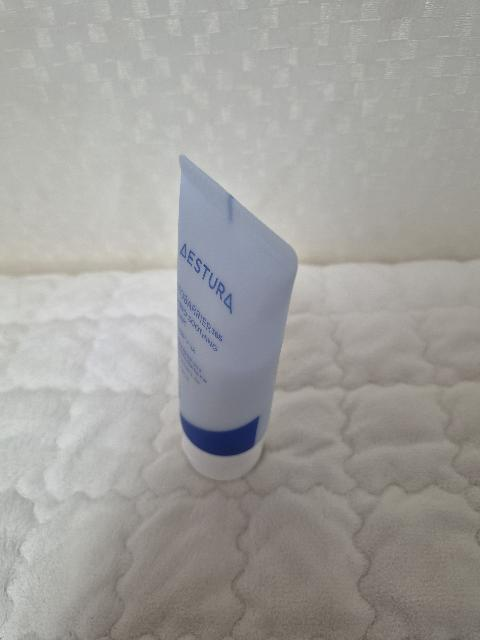handcream: (177, 154, 298, 480)
